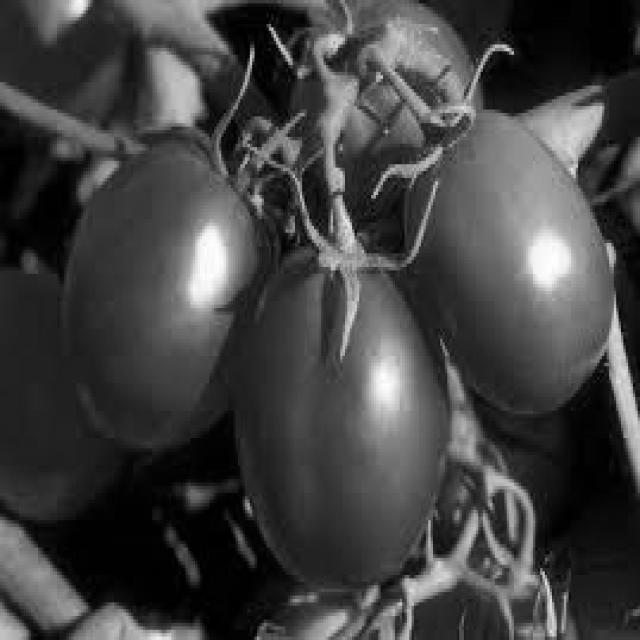Fresh_tomato: (263, 191, 452, 582), (72, 128, 265, 454), (418, 120, 634, 393), (296, 2, 496, 160), (7, 237, 117, 518), (0, 0, 124, 151)
